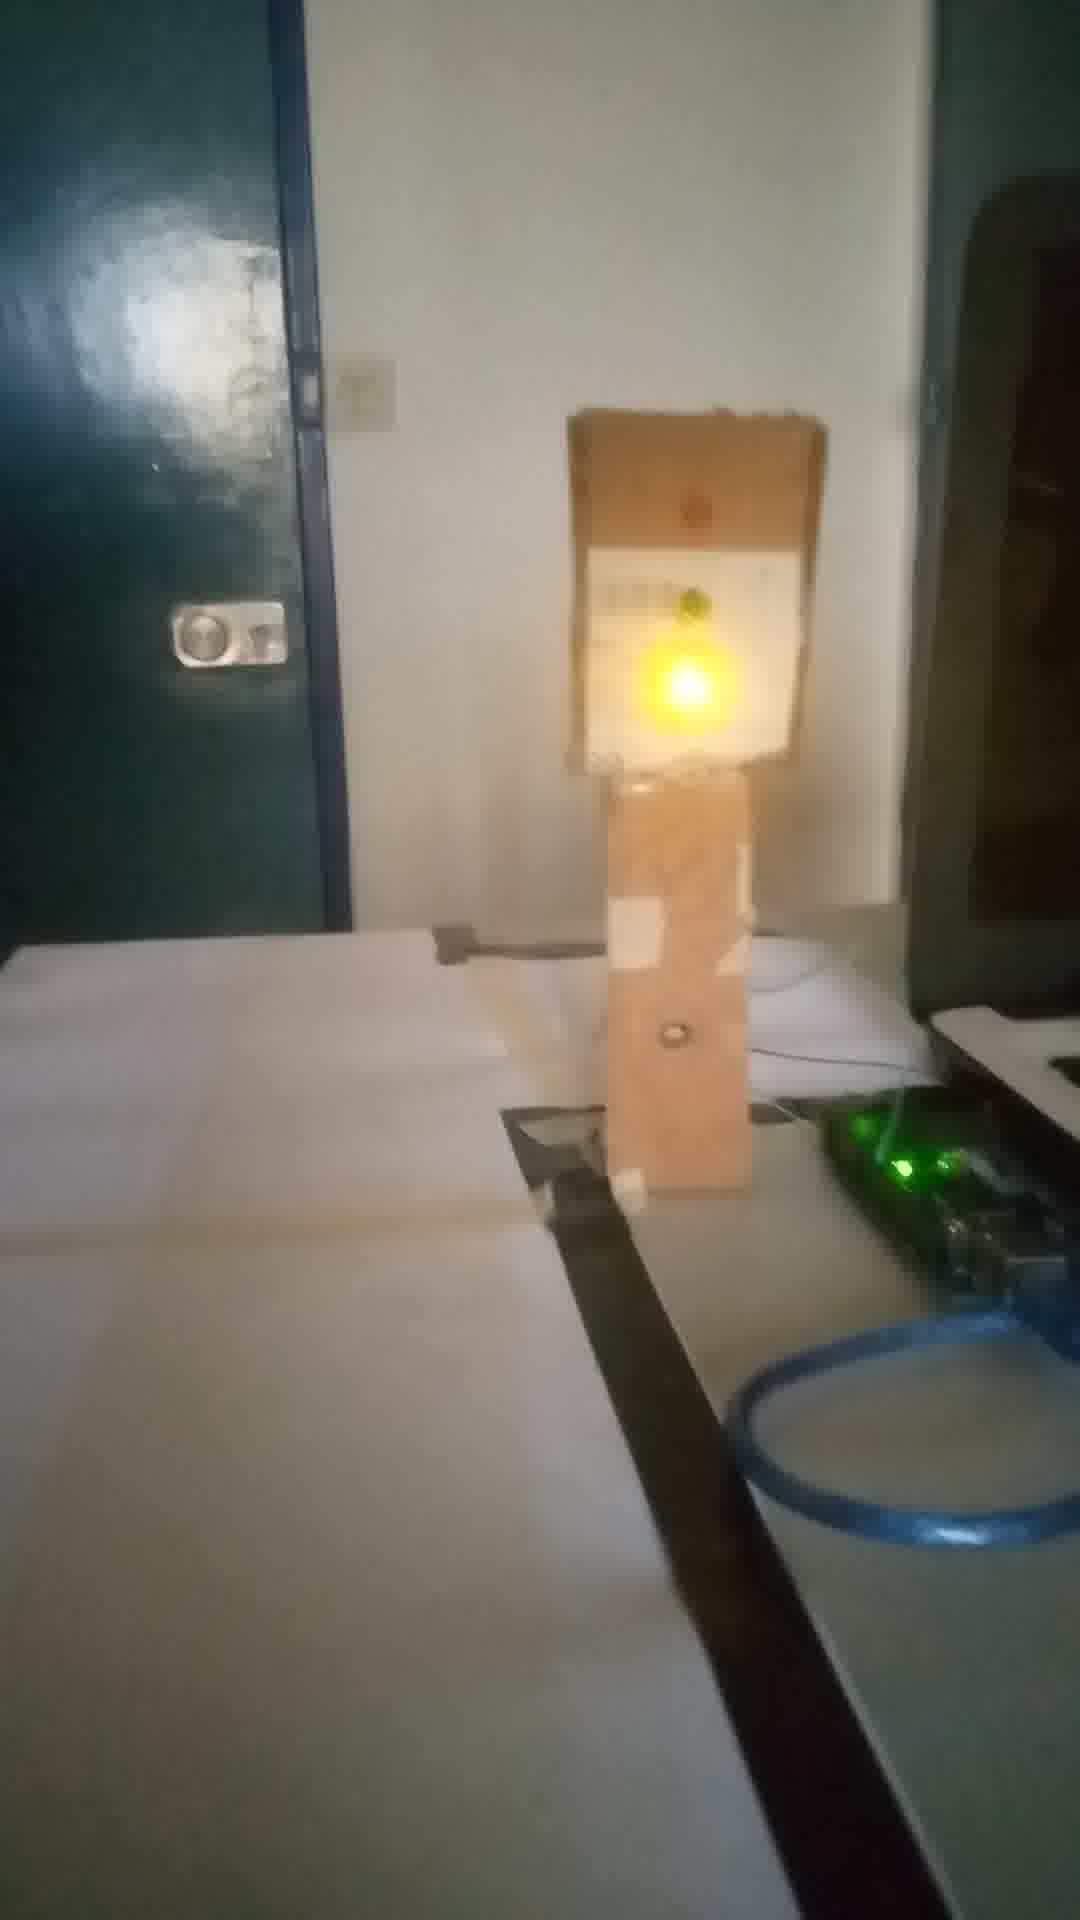green: (574, 411, 807, 786)
